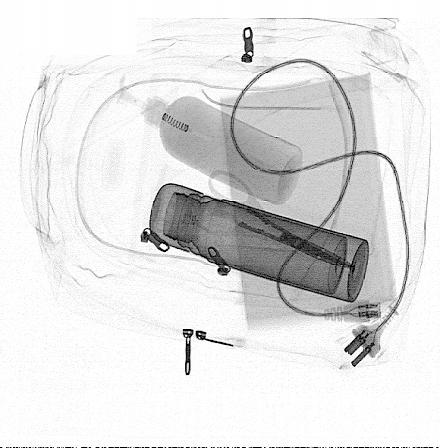Scissors: (188, 169, 351, 266)
